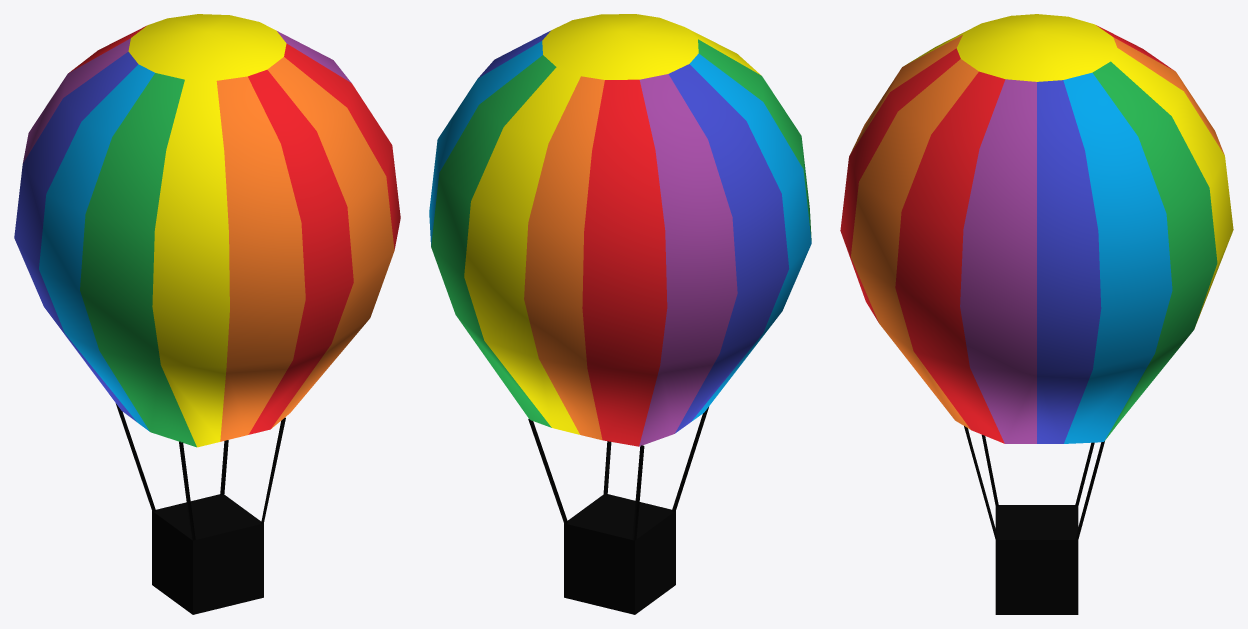
Rendered from balloon.glb.
The picture shows the model from 3 angles, left to right: view 1: azimuth 30°, elevation 25°; view 2: azimuth 150°, elevation 25°; view 3: azimuth 270°, elevation 25°; orthographic projection.
Parts seen in each view (by area): view 1: HotAirBalloon; view 2: HotAirBalloon; view 3: HotAirBalloon.
Boxes of the visible parts, x1,y1,x2,y2 form: HotAirBalloon: [14, 14, 400, 614]; HotAirBalloon: [429, 14, 811, 614]; HotAirBalloon: [840, 14, 1233, 614].
Bounding box in the file's own units: 3 × 4.76 × 3.
1 material, 1 textured.
